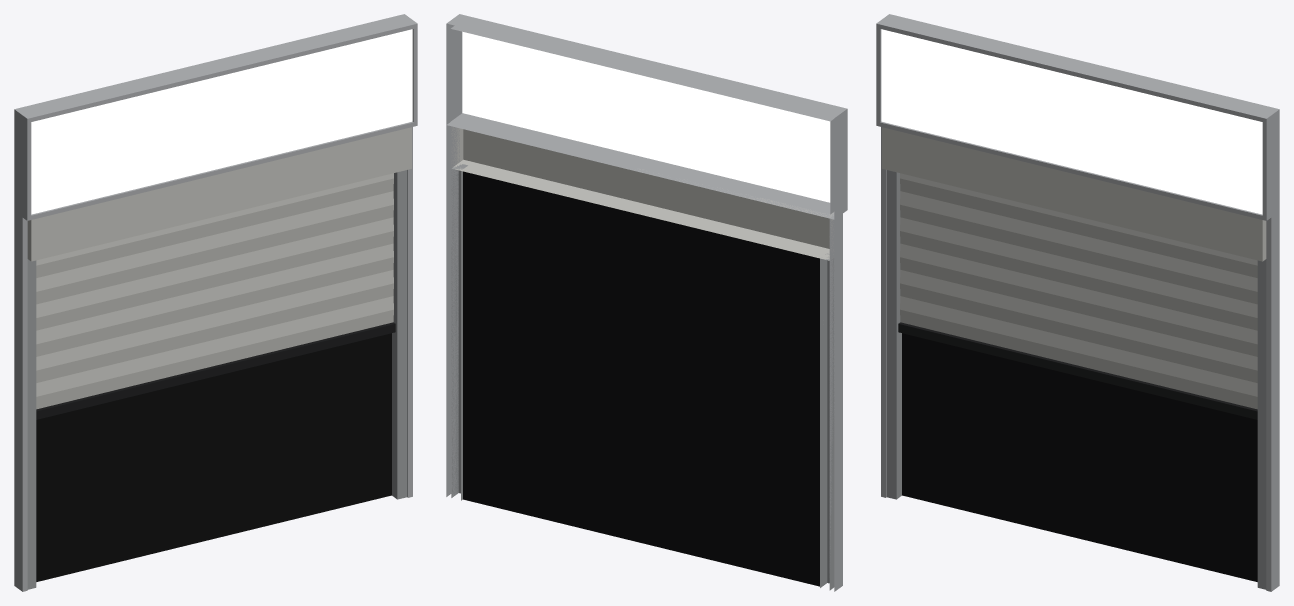
File: gteki_shopfront_shutter_w2400_half.glb
The picture shows the model from 3 angles, left to right: view 1: azimuth 30°, elevation 25°; view 2: azimuth 150°, elevation 25°; view 3: azimuth 330°, elevation 25°; orthographic projection.
Parts seen in each view (by area): view 1: VIS_body; view 2: VIS_body; view 3: VIS_body.
Boxes of the visible parts, <box> form: VIS_body: <box>14,14,417,591</box>; VIS_body: <box>446,14,847,591</box>; VIS_body: <box>876,14,1279,591</box>.
Size of the model in its own units: 2.4 by 2.8 by 0.14.
Materials: 2 (1 with a texture image).
